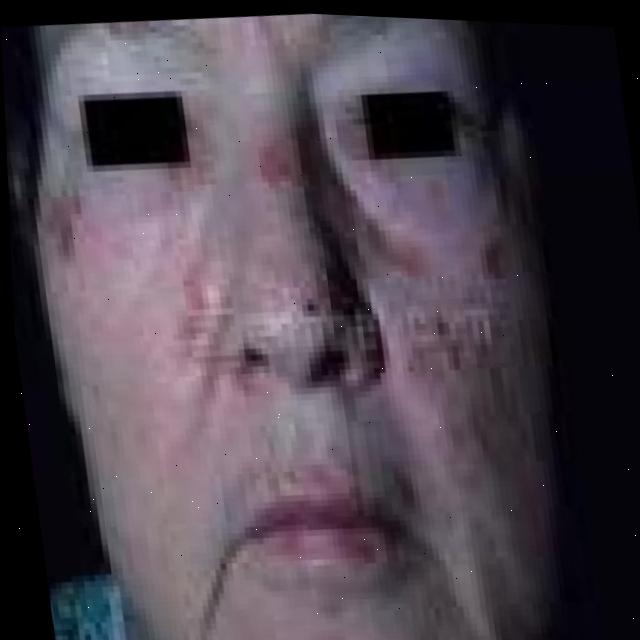Melasma: (477, 227, 559, 415), (174, 225, 263, 369), (27, 185, 100, 267), (262, 139, 309, 201), (296, 282, 336, 319)
